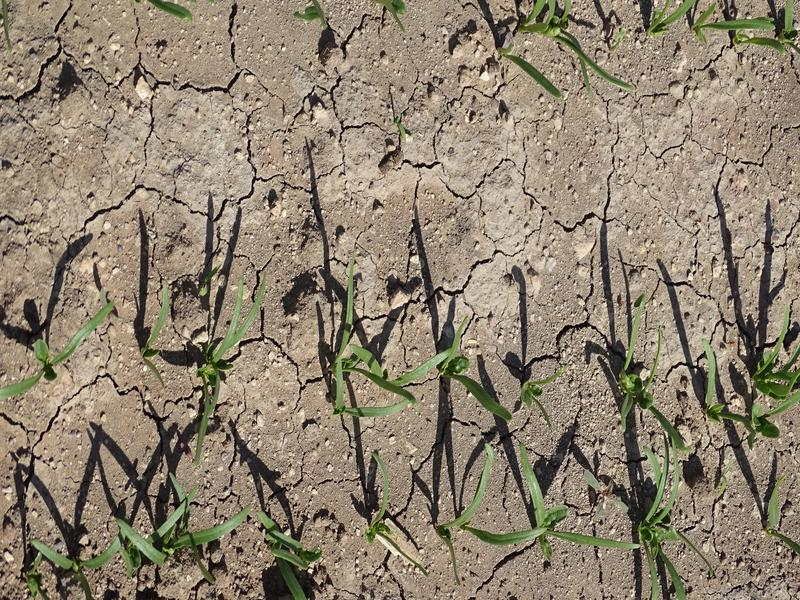Espinaca: (350, 450, 709, 599), (321, 285, 554, 425), (462, 1, 798, 96), (36, 497, 312, 583), (611, 321, 800, 431), (190, 286, 256, 456), (1, 304, 114, 394), (140, 280, 173, 385), (761, 479, 799, 556)
